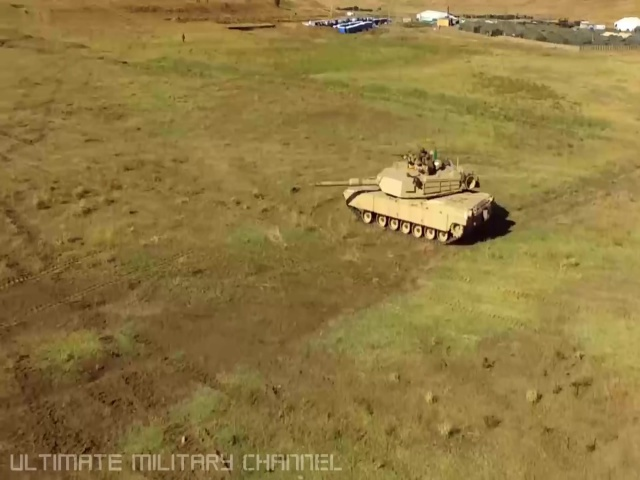vehicle: (338, 154, 496, 247)
